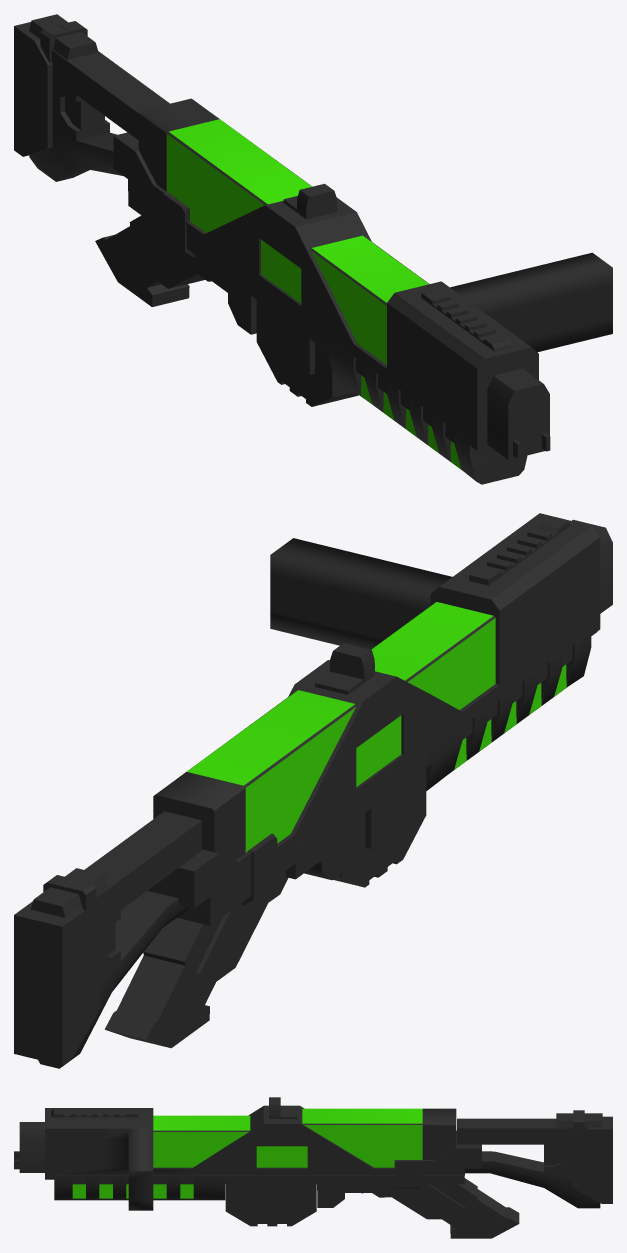
Rendered from tiens.fbx.
The picture shows the model from 3 angles, top to bottom: view 1: azimuth 30°, elevation 25°; view 2: azimuth 150°, elevation 25°; view 3: azimuth 270°, elevation 25°; orthographic projection. The views are drawn at different scales.
Parts seen in each view (by area): view 1: ARMESTArlesfou, ARMESTArlesfou.001; view 2: ARMESTArlesfou, ARMESTArlesfou.001; view 3: ARMESTArlesfou, ARMESTArlesfou.001.
Part boxes in pixels (x1,y1,x2,y2): ARMESTArlesfou: (14, 14, 612, 484); ARMESTArlesfou.001: (166, 119, 428, 364); ARMESTArlesfou: (14, 513, 612, 1068); ARMESTArlesfou.001: (187, 602, 495, 852); ARMESTArlesfou: (14, 1097, 612, 1238); ARMESTArlesfou.001: (153, 1108, 422, 1167).
Size of the model in its own units: 26.43 by 26.82 by 110.
